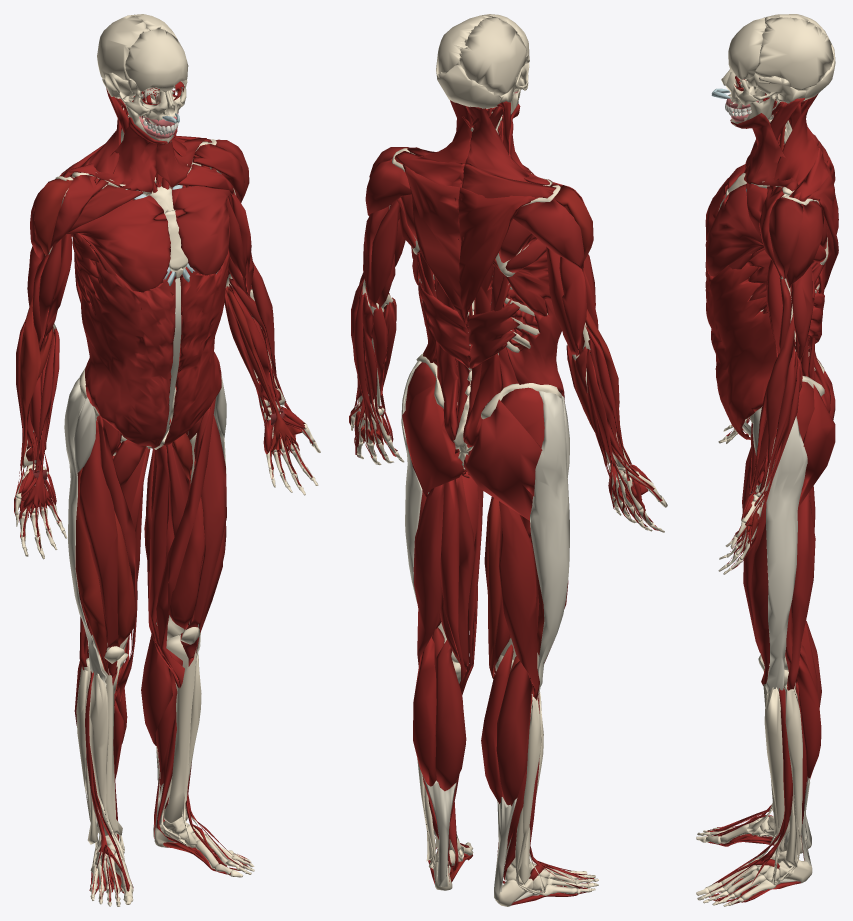
File: m-muscles.glb
3 views of the same model, side by side, from view 1: azimuth 30°, elevation 25°; view 2: azimuth 150°, elevation 25°; view 3: azimuth 270°, elevation 25° (orthographic). The views are drawn at different scales.
Parts seen in each view (by area): view 1: muscle, bone; view 2: muscle, bone; view 3: muscle, bone.
Boxes of the visible parts, x1,y1,x2,y2 form: muscle: [14, 81, 313, 901]; bone: [15, 14, 320, 906]; muscle: [349, 100, 662, 905]; bone: [351, 14, 667, 906]; muscle: [705, 76, 838, 904]; bone: [696, 14, 835, 906].
Size of the model in its own units: 0.6471 by 1.71 by 0.2597.
